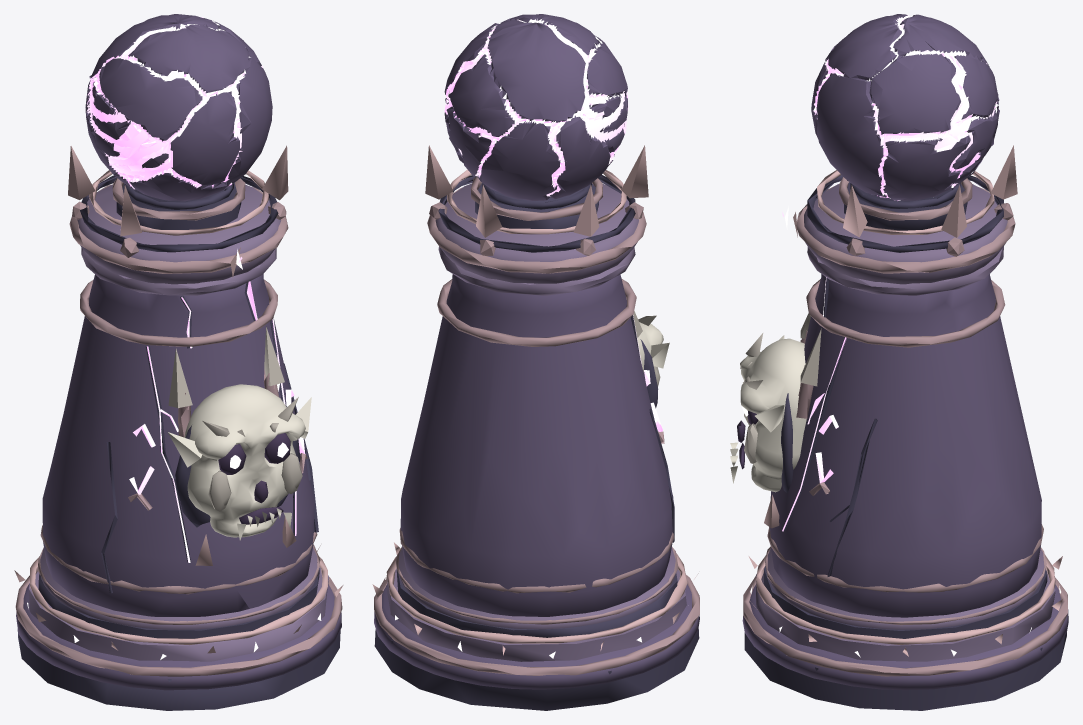
File: pion_Necromantique.copie.old.fbx
3 views of the same model, side by side, from view 1: azimuth 30°, elevation 25°; view 2: azimuth 150°, elevation 25°; view 3: azimuth 270°, elevation 25° (orthographic).
Parts seen in each view (by area): view 1: Crane_Corne_Tempe_1; view 2: Crane_Corne_Tempe_1; view 3: Crane_Corne_Tempe_1.
Boxes of the visible parts, box(x1,y1,x2,y2) form: Crane_Corne_Tempe_1: box(14, 14, 343, 710); Crane_Corne_Tempe_1: box(372, 14, 699, 710); Crane_Corne_Tempe_1: box(730, 14, 1068, 710).
Size of the model in its own units: 62.8 by 130 by 64.22.
